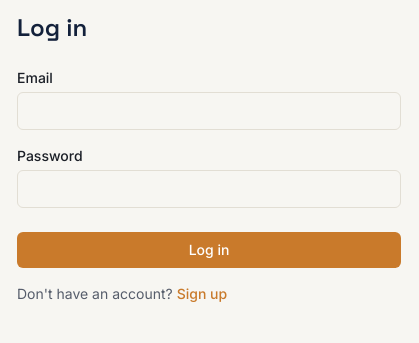
Test: LoginPage › rejects an invalid email format
In the field labelled "Email": point(209, 111) [17,92,401,130], type "not-an-email"
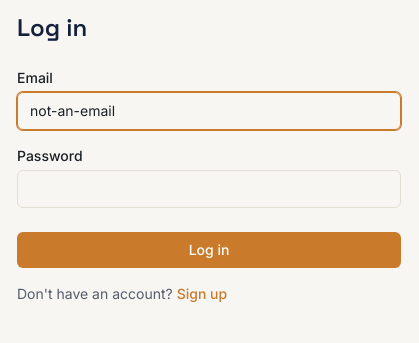
In the password field labelled "Password": point(209, 189) [17,170,401,208], type "password123"
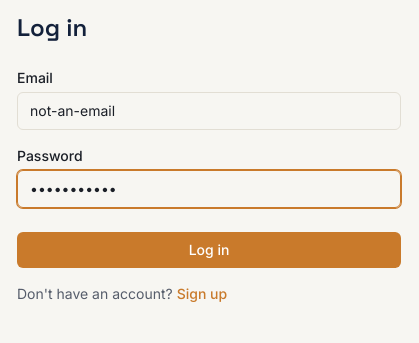
Click the button "Log in": point(209, 250) [17,232,401,268]
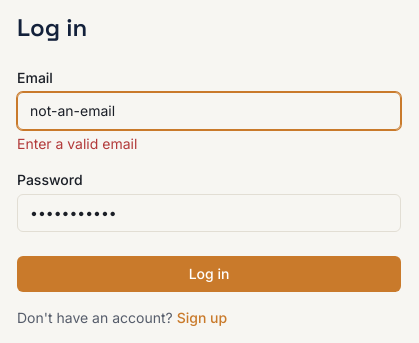
Expected: the text "Enter a valid email" is shown, [17,135,137,152]
